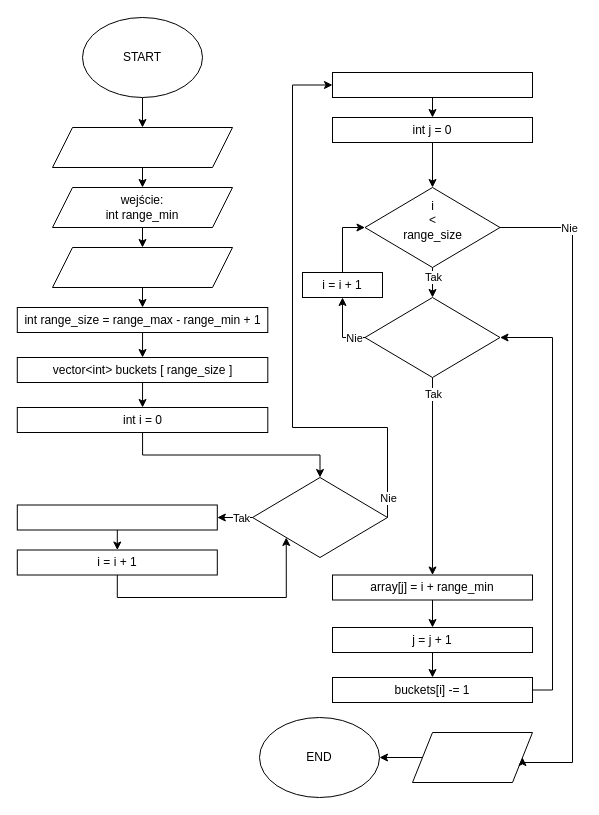
This 599x815 diagram has some shape labels left out. The centre of each missing label's shape, as x and y in pixels:
"buckets[array[i] - range_min] += 1" goes at [116,517].
"buckets[i] > 0" goes at [432,337].
"i < array.size()" goes at [320,517].
"i = 0" goes at [432,85].
"wejście: int range_max" goes at [142,267].
"wejście: vector<int> array" goes at [142,147].
"wyjście: array[]" goes at [472,757].
